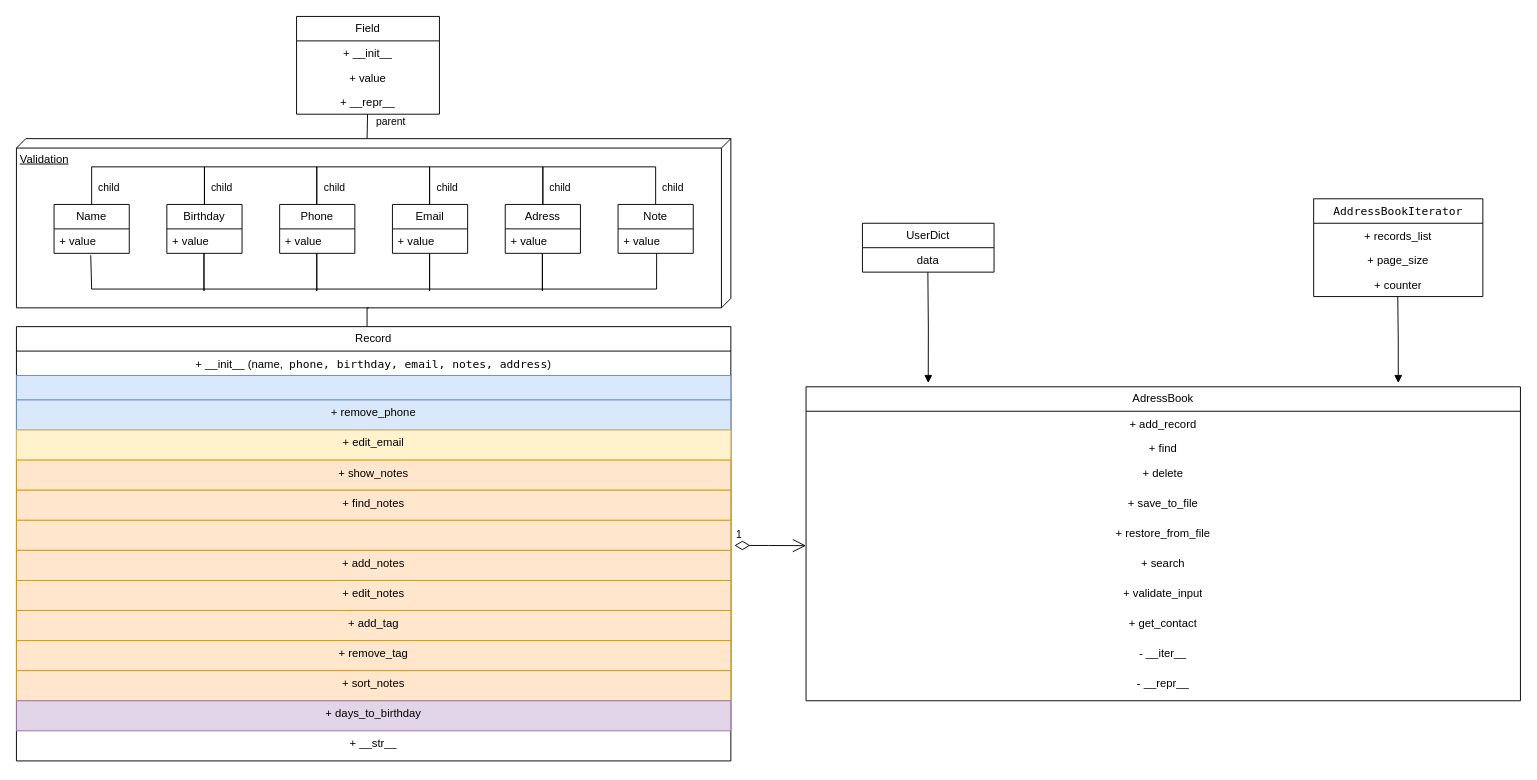
The diagram is 1537 pixels wide and 780 high, and some of its shapes have lost their labels. Here are the shapes that lost their labels. From the top down, the centre of each, then its label:
At (x=373, y=387): "+ add_phone".
At (x=373, y=534): "+ delete_notes".
